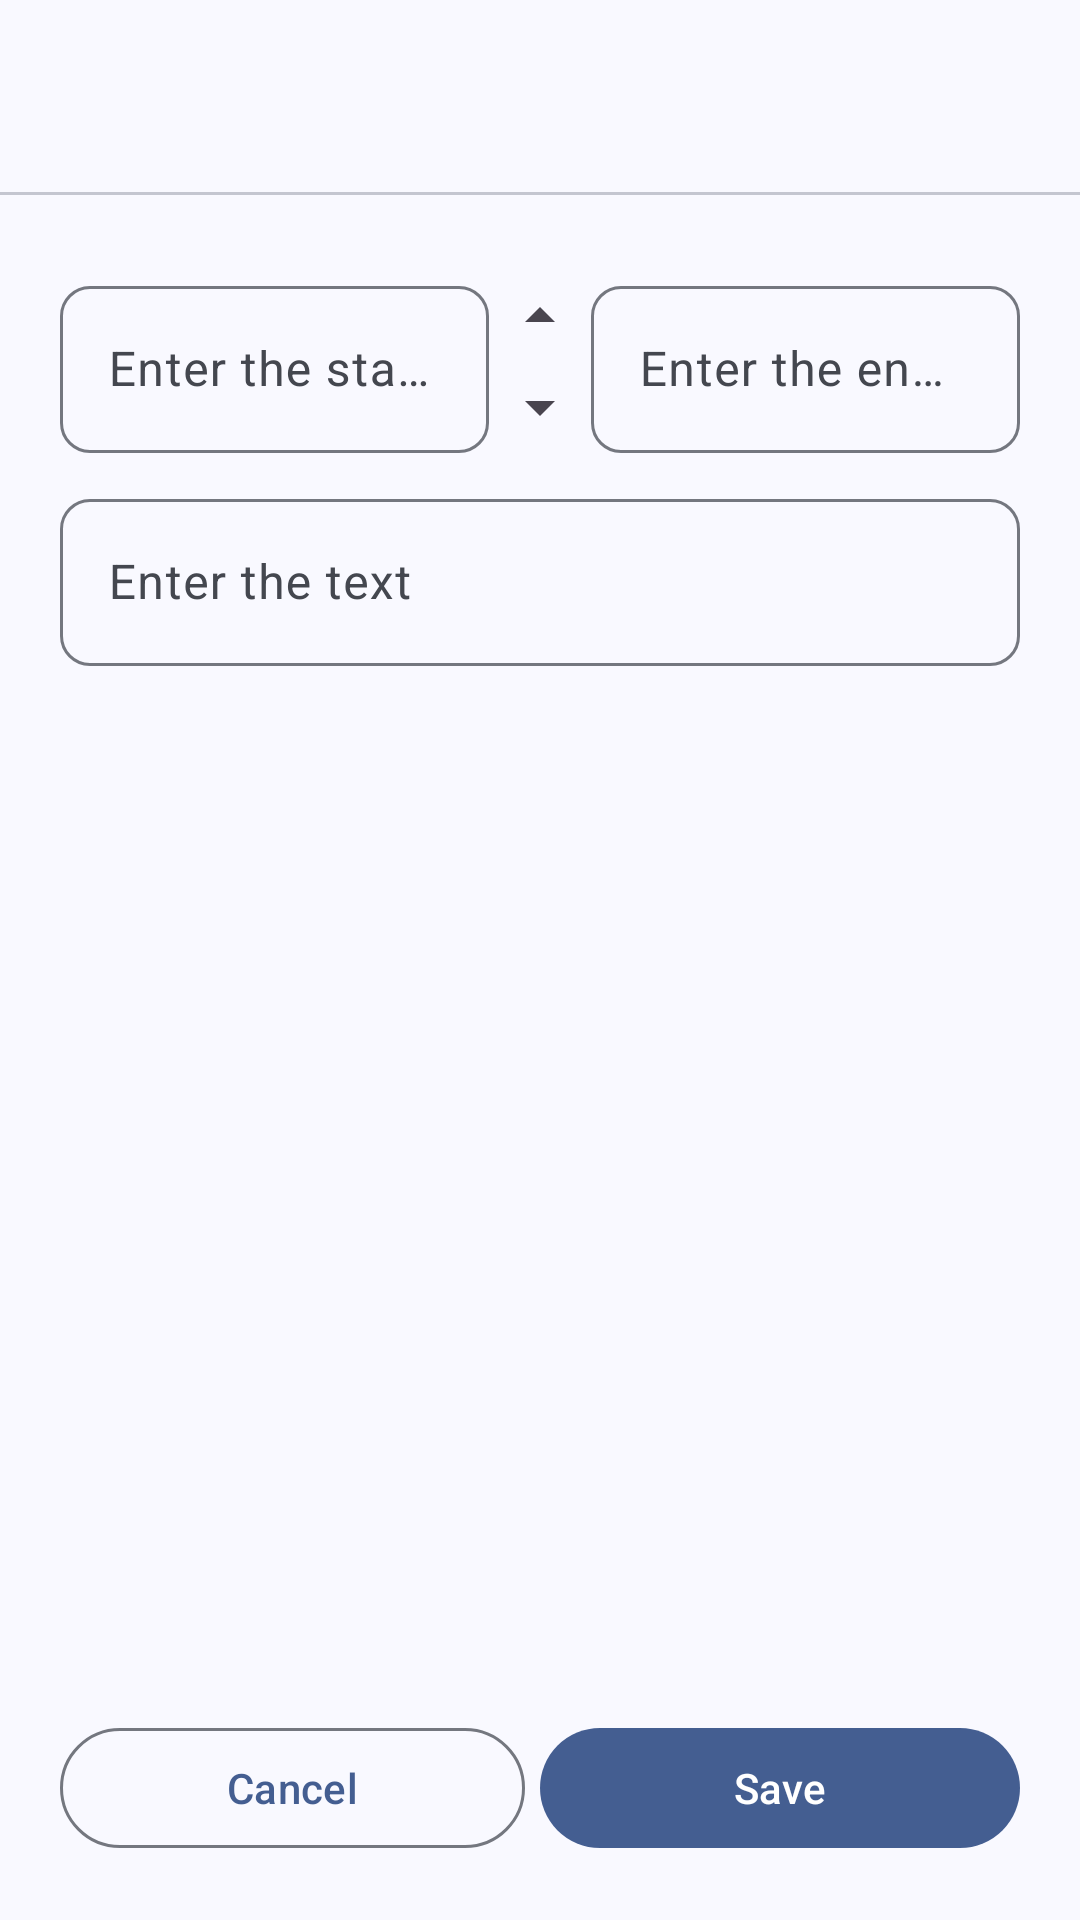

Where icons sit on this 1080px x 1920px app screen, as (x1, y1, x2, y2):
arrow down: (525, 401, 555, 416)
arrow up: (525, 307, 555, 322)
